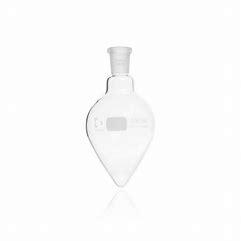Pear shaped flask: (90, 39, 150, 191)
